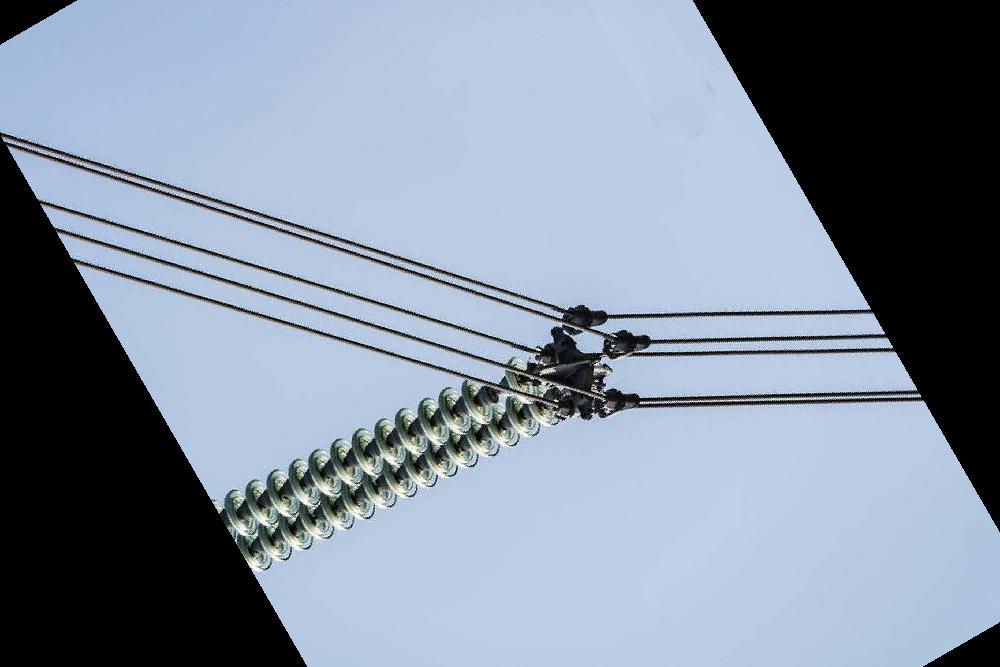insulator: (218, 352, 562, 576)
insulator_stringdrop: (458, 355, 537, 429)
